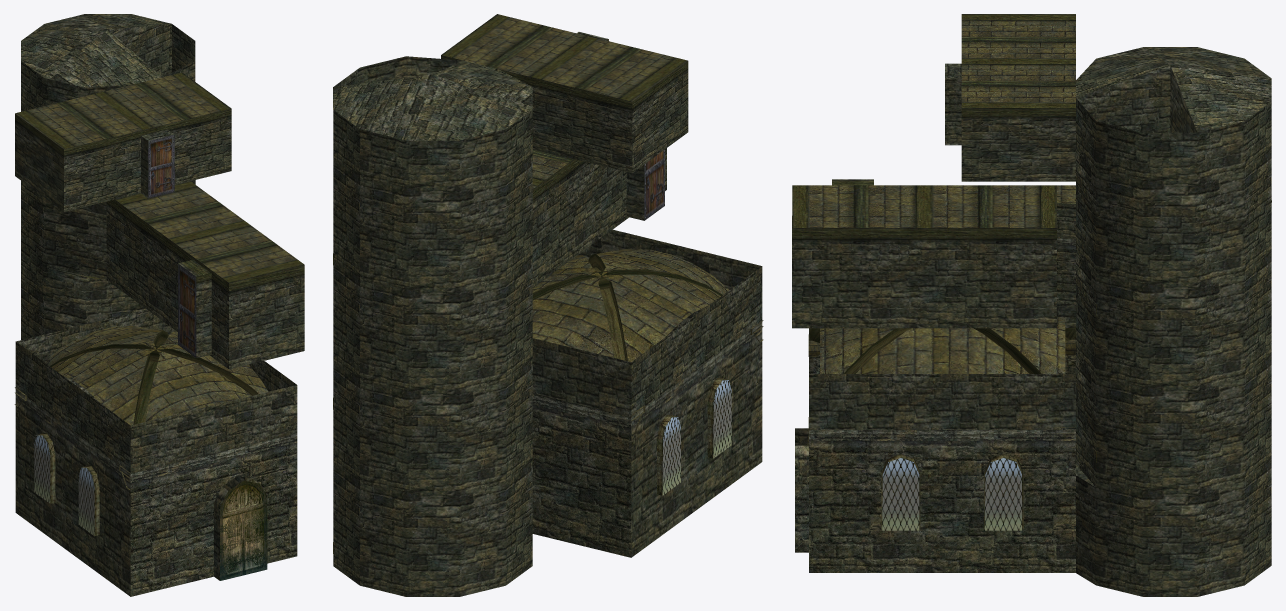
The model's file is castle2_in.glb.
3 views of the same model, side by side, from view 1: azimuth 30°, elevation 25°; view 2: azimuth 150°, elevation 25°; view 3: azimuth 270°, elevation 25° (orthographic). The views are drawn at different scales.
Visible parts, largest first — view 1: castle2_in; view 2: castle2_in; view 3: castle2_in.
Part boxes in pixels (<box>): castle2_in: <box>14,14,304,596</box>; castle2_in: <box>333,14,763,596</box>; castle2_in: <box>792,14,1271,596</box>.
Size of the model in its own units: 7.02 by 13.23 by 11.77.
Materials: 16 (16 with a texture image).
